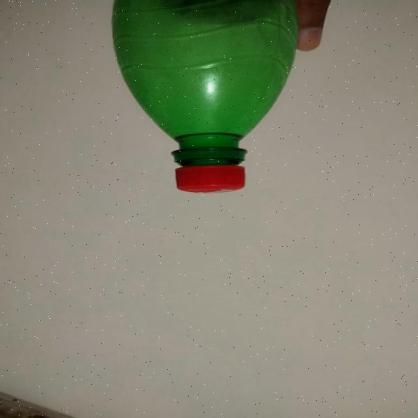cap: (172, 152, 248, 192)
